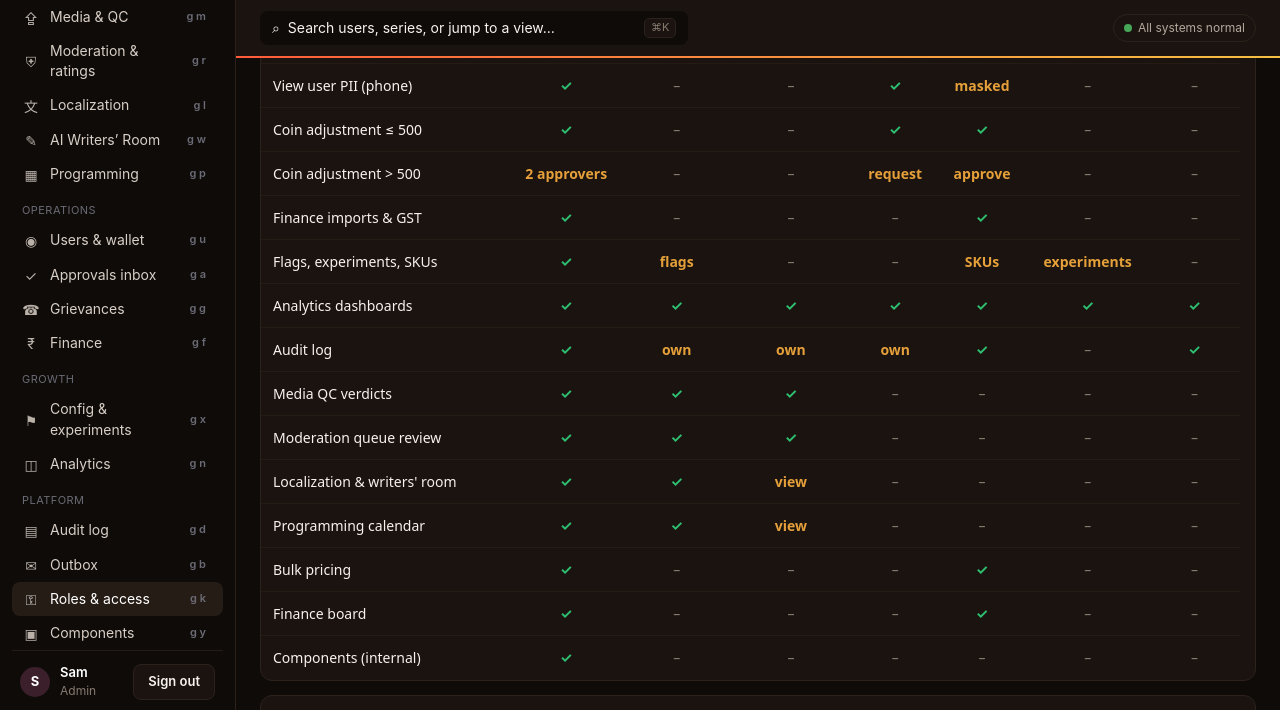
Scenario: signed-in OIDC operator › sign out clears the session and returns to the Login screen
(page scrolled)
Click the button "Sign out": (174, 682) [133,664,215,700]
(page scrolled)
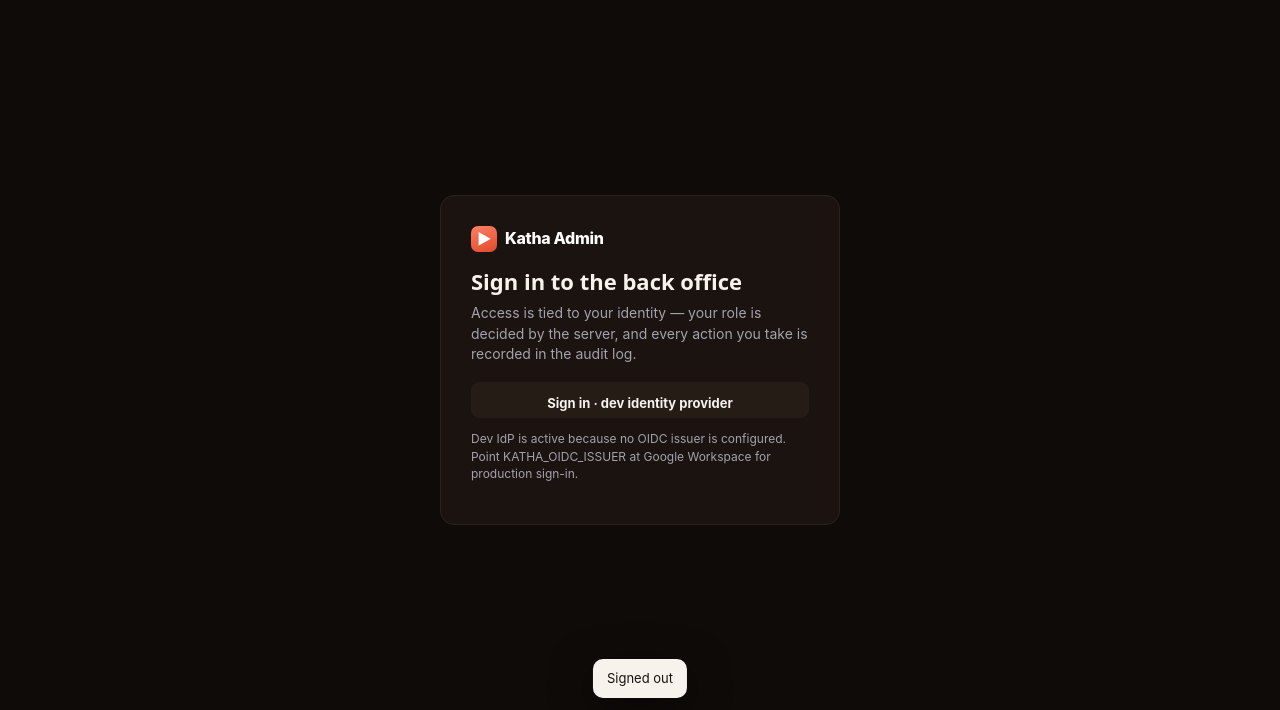
Check: the link "Sign in · dev identity provider" is shown, box [471,382,809,418]
Check: the text "Signed out" is shown, box [593,659,687,698]
